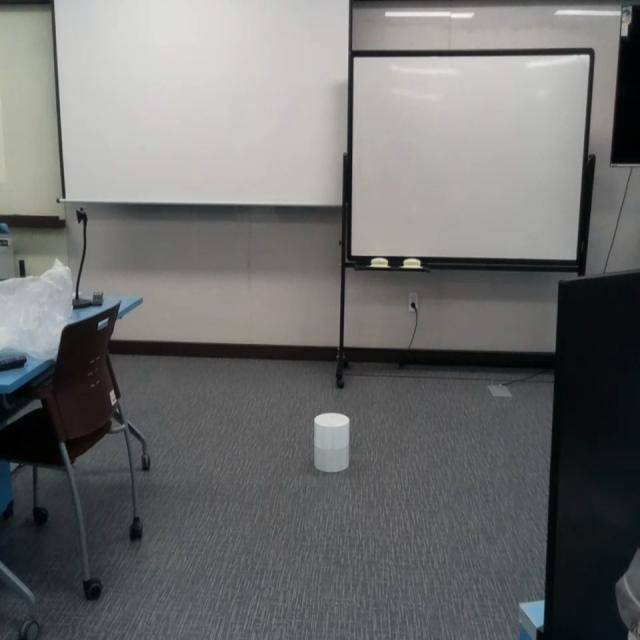cylinder: (314, 412, 350, 473)
